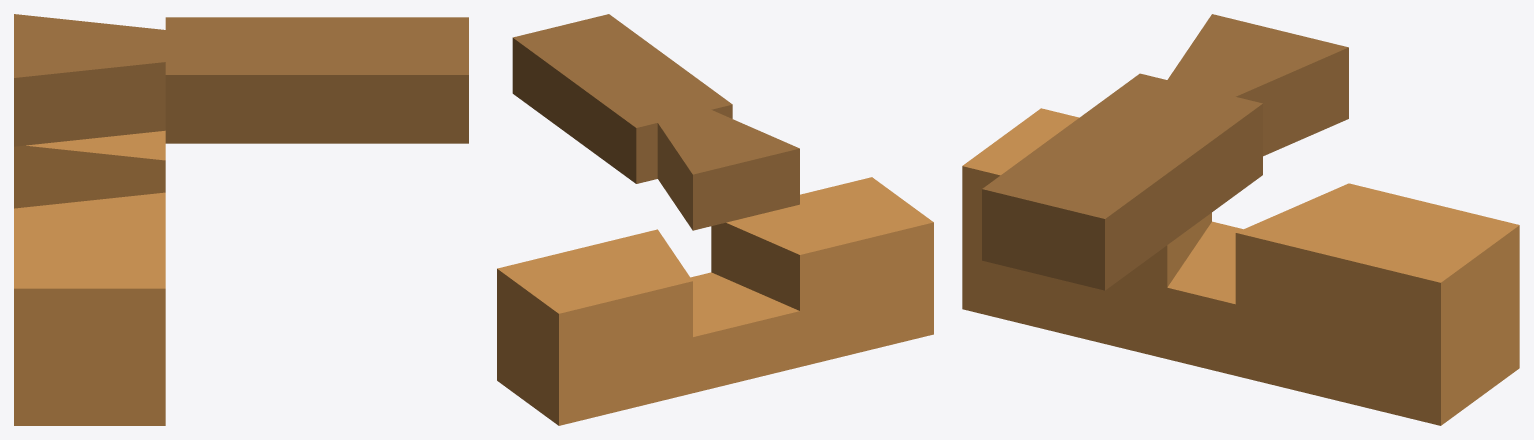
3 renders of one model, left to right at view 1: azimuth 30°, elevation 25°; view 2: azimuth 150°, elevation 25°; view 3: azimuth 270°, elevation 25°, orthographic. The views are drawn at different scales.
Size of the model in its own units: 1.29 by 0.6804 by 1.23.
